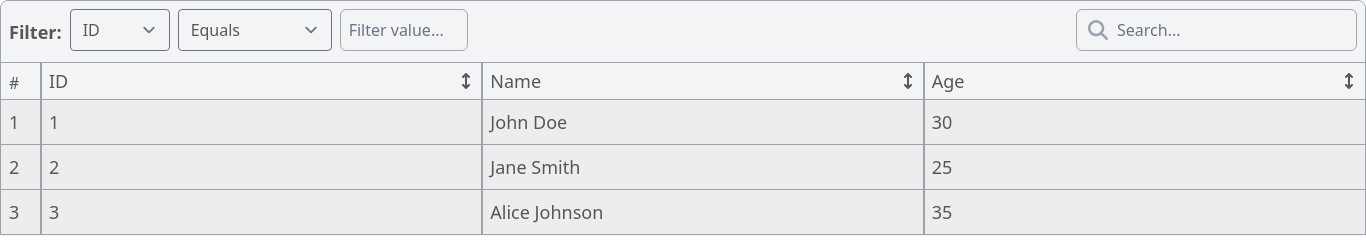
DataGrid Component › applies sorting correctly
Click the text "Name" at (516, 81), box [490, 67, 916, 95]
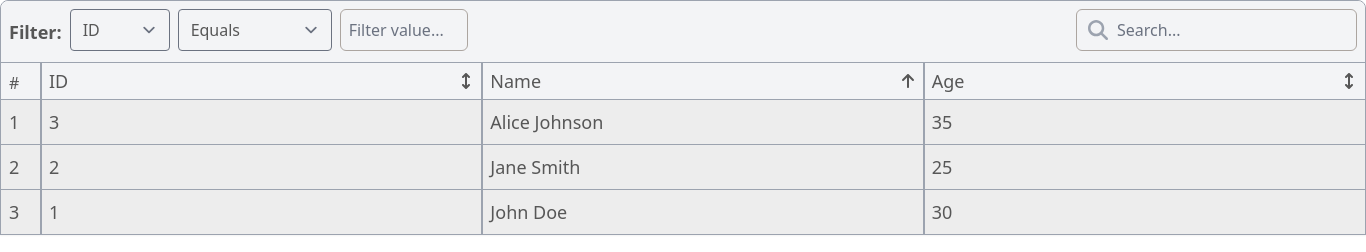
Click the text "Name" at (516, 81), box [490, 67, 916, 95]
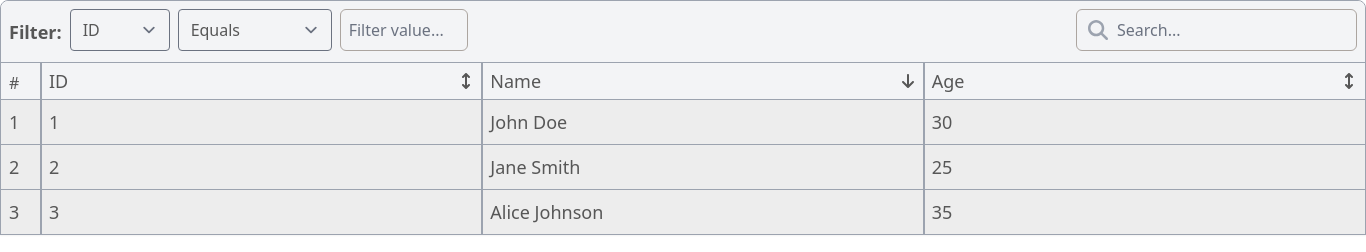
Check: the row "1 1 John Doe 30" is shown, box [1, 99, 1365, 144]
Check: the row "3 3 Alice Johnson 35" is shown, box [1, 189, 1365, 234]
